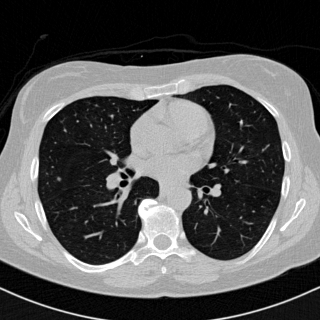nodule: (56, 177, 60, 181)
